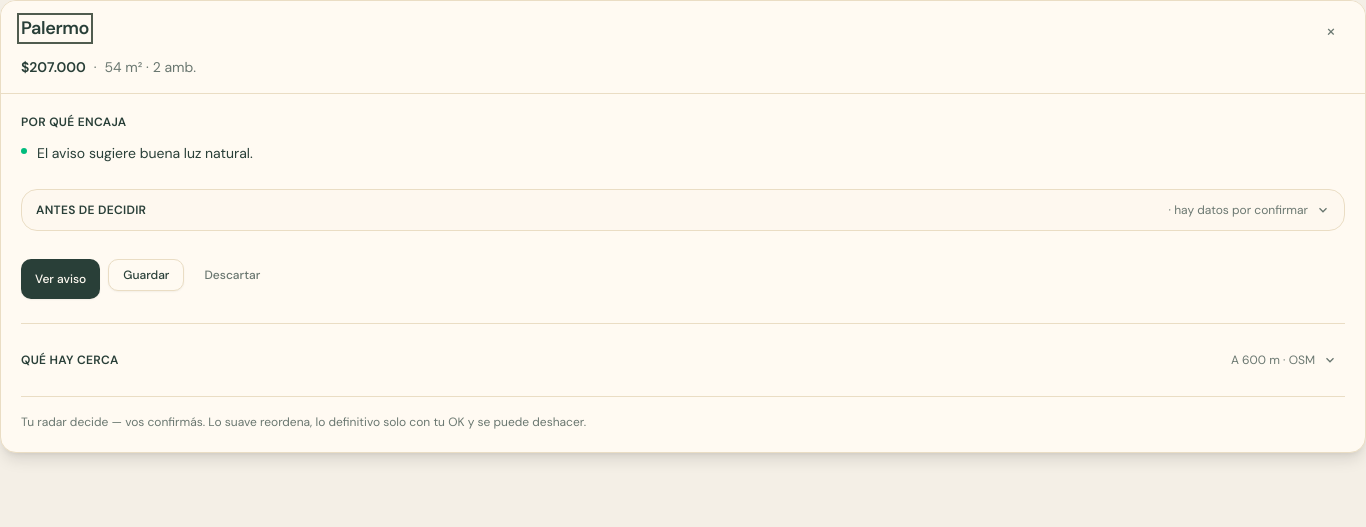
Test case: OpportunityDetailSheet › mantiene neutral la causa de un dato desconocido
Click the button "Antes de decidir · hay datos por confirmar".
click(91, 210)  # box [22,190,1344,230]
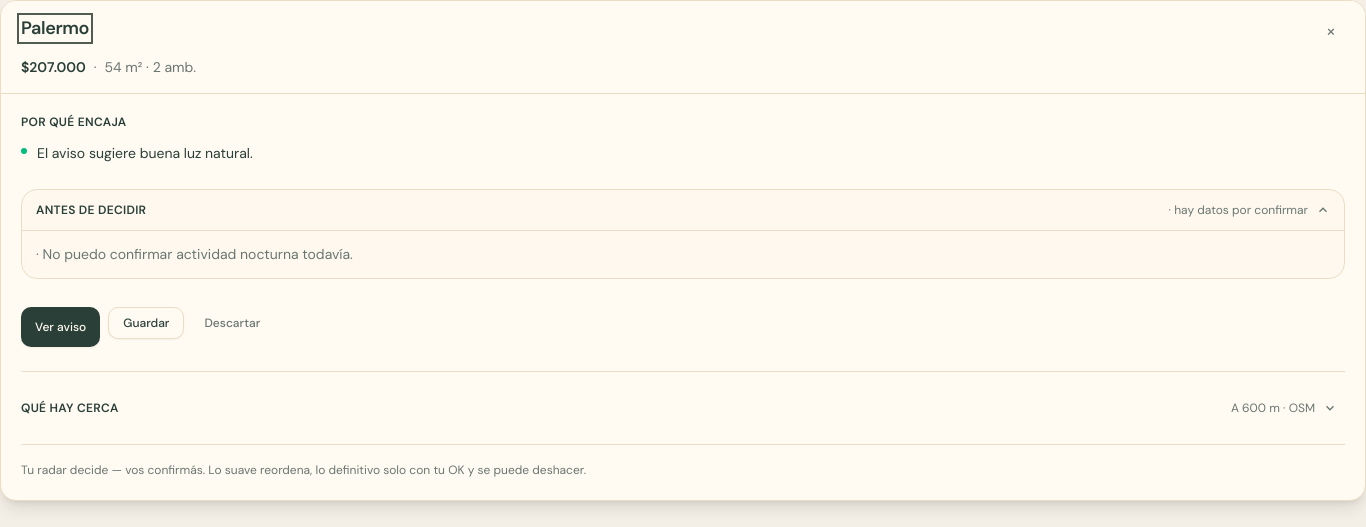
Expected: the text "· No puedo confirmar actividad nocturna todavía." is shown, [36,245,353,263]
